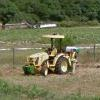Tractor: (19, 26, 87, 79)
